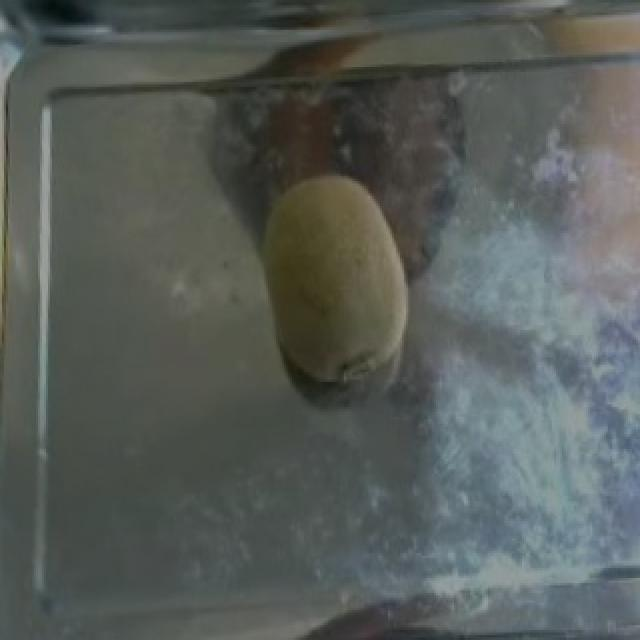Fruit: (248, 159, 428, 404), (542, 45, 640, 208)
